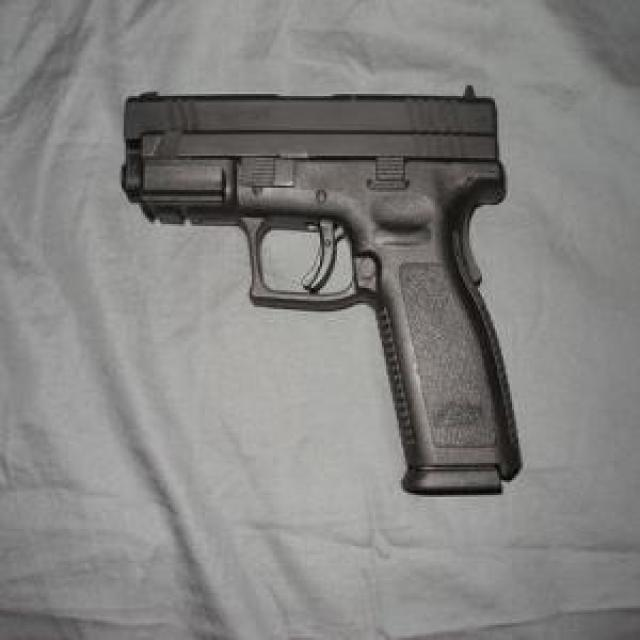pistol: (119, 83, 524, 498)
